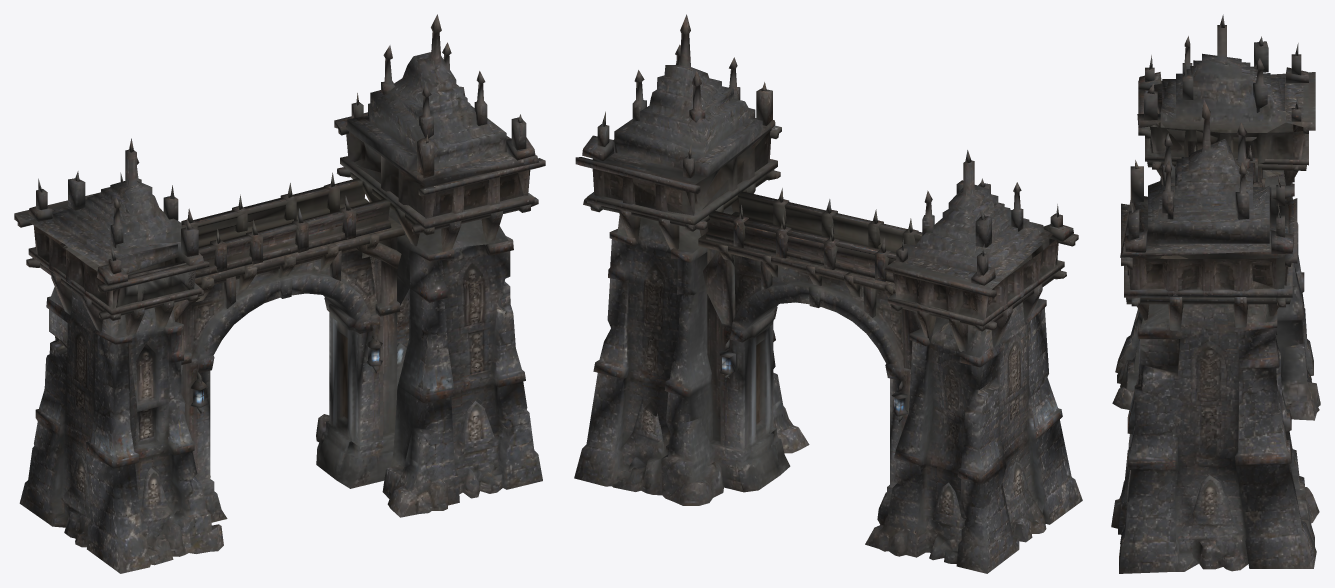
The model's file is gate.glb.
The picture shows the model from 3 angles, left to right: view 1: azimuth 30°, elevation 25°; view 2: azimuth 150°, elevation 25°; view 3: azimuth 270°, elevation 25°; orthographic projection.
Parts seen in each view (by area): view 1: tripo_node_0fdf42da-86f3-4c86-a13e-4c838e992f93; view 2: tripo_node_0fdf42da-86f3-4c86-a13e-4c838e992f93; view 3: tripo_node_0fdf42da-86f3-4c86-a13e-4c838e992f93.
Boxes of the visible parts, box(x1,y1,x2,y2) form: tripo_node_0fdf42da-86f3-4c86-a13e-4c838e992f93: box(14, 14, 545, 573); tripo_node_0fdf42da-86f3-4c86-a13e-4c838e992f93: box(574, 14, 1082, 573); tripo_node_0fdf42da-86f3-4c86-a13e-4c838e992f93: box(1111, 14, 1320, 573).
Size of the model in its own units: 12 by 12 by 5.1.
1 material, 1 textured.
